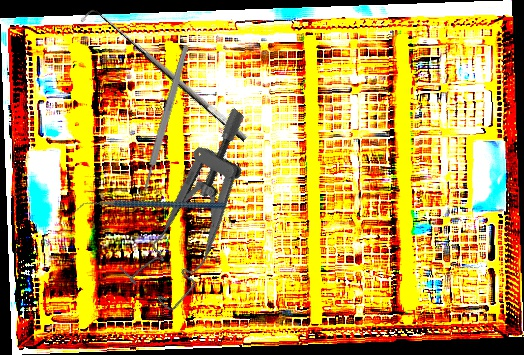Chopper: (74, 155, 226, 260)
Hook Surgical: (78, 1, 250, 154)
Scalpel Handle: (140, 44, 191, 192)
Speculum: (104, 106, 299, 315)
